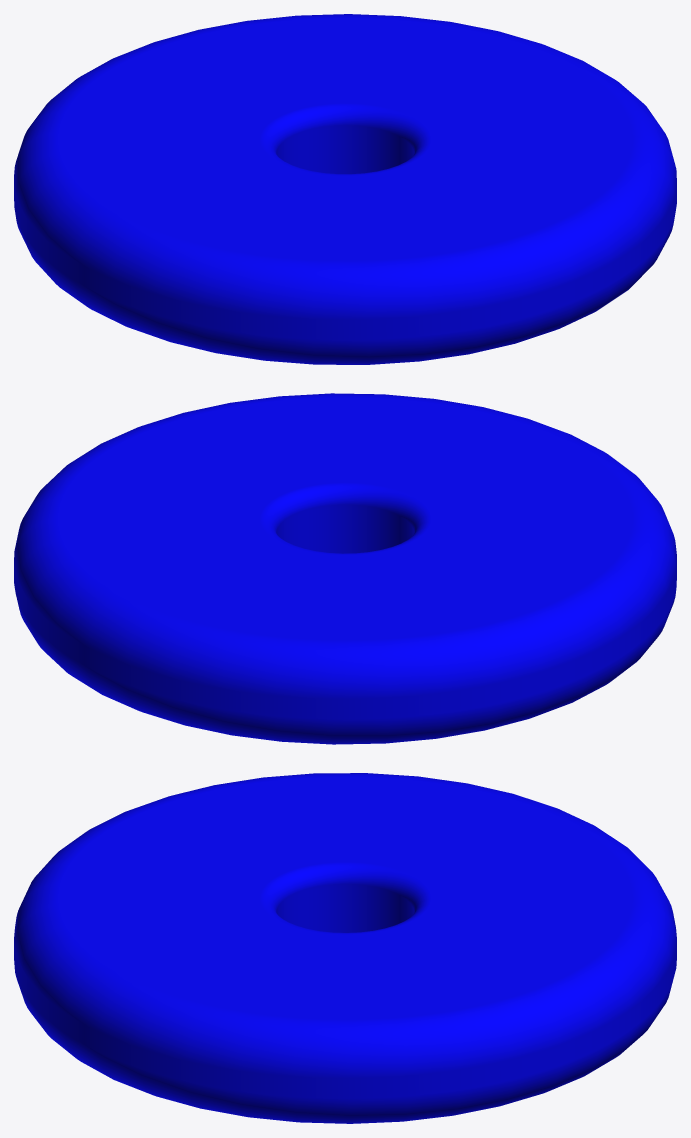
File: disk2.dae
3 renders of one model, top to bottom at view 1: azimuth 30°, elevation 25°; view 2: azimuth 150°, elevation 25°; view 3: azimuth 270°, elevation 25°, orthographic.
Parts seen in each view (by area): view 1: ID2; view 2: ID2; view 3: ID2.
Part boxes in pixels (x1,y1,x2,y2): ID2: (14, 14, 676, 364); ID2: (14, 393, 676, 744); ID2: (14, 773, 676, 1123).
Bounding box in the file's own units: 0.06 × 0.06 × 0.01.
